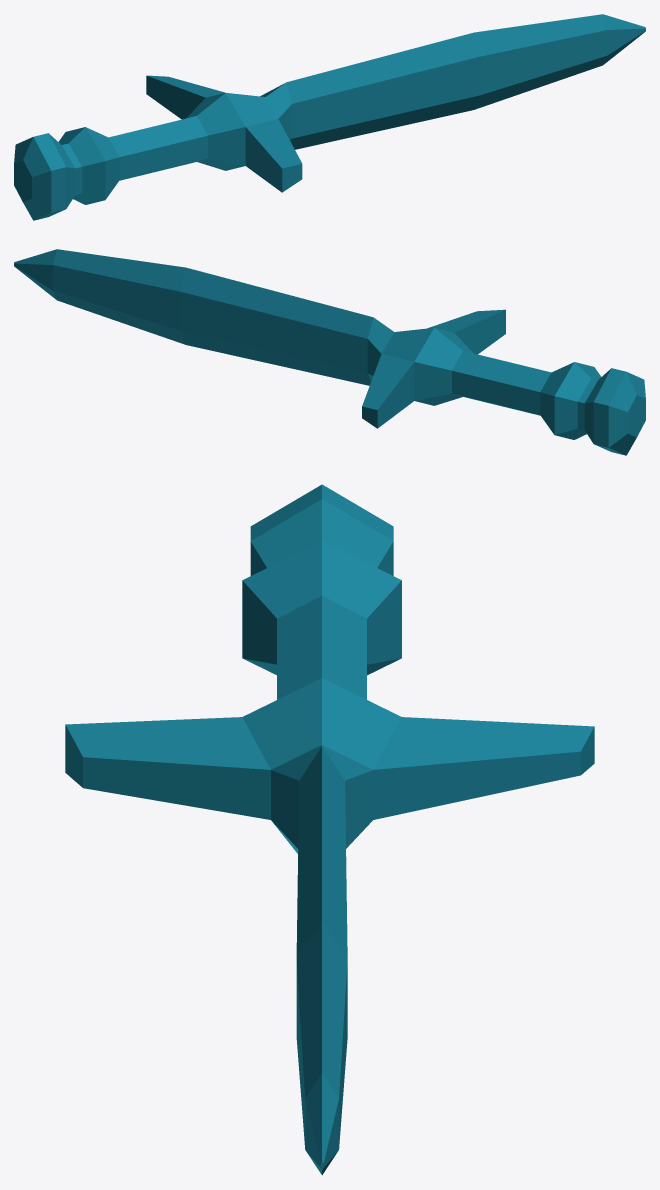
File: UIAttack.fbx
3 views of the same model, one above another, from view 1: azimuth 30°, elevation 25°; view 2: azimuth 150°, elevation 25°; view 3: azimuth 270°, elevation 25° (orthographic). The views are drawn at different scales.
Parts seen in each view (by area): view 1: Cylinder.002; view 2: Cylinder.002; view 3: Cylinder.002.
Boxes of the visible parts, left/top/right/bottom form: Cylinder.002: left=14, top=14, right=645, bottom=220; Cylinder.002: left=14, top=249, right=645, bottom=455; Cylinder.002: left=65, top=484, right=594, bottom=1175.
Bounding box in the file's own units: 138 × 17.83 × 50.85.
